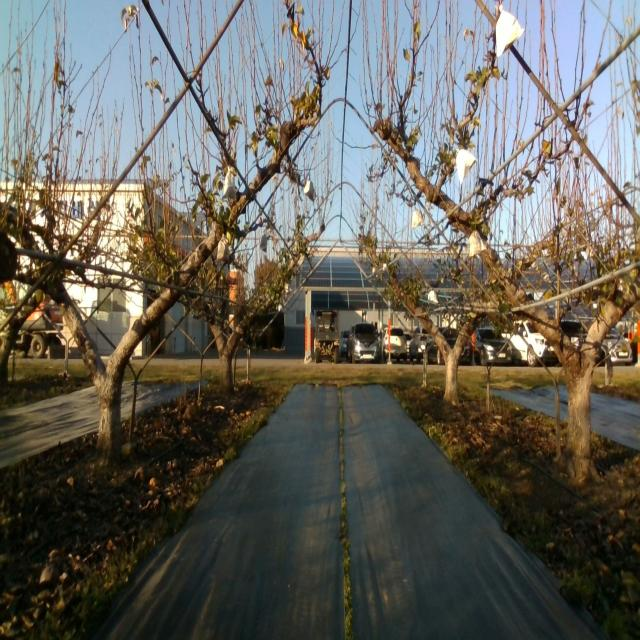pearbags: (495, 3, 525, 58), (456, 148, 477, 185), (469, 229, 487, 256), (223, 165, 236, 200), (216, 234, 230, 262), (412, 208, 424, 228), (304, 178, 314, 200)
